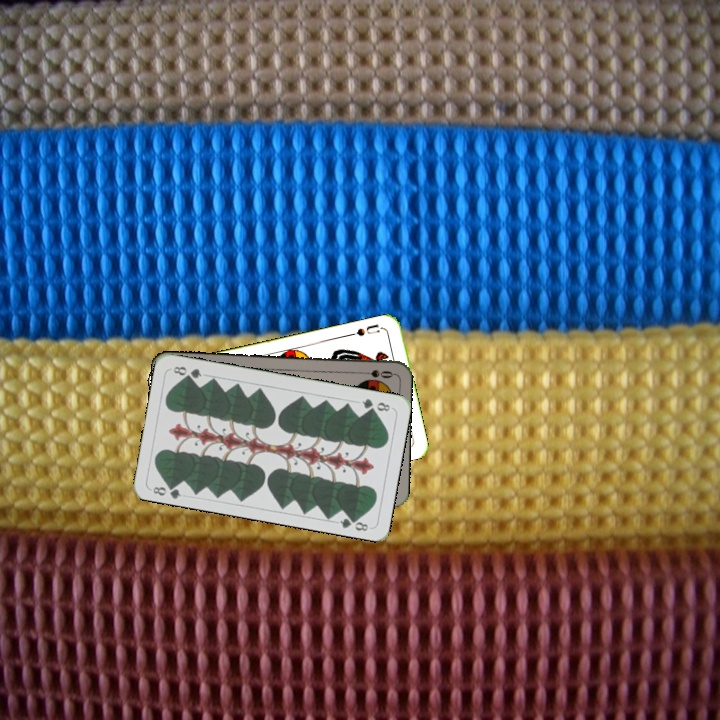G8: (149, 479, 184, 501), (358, 394, 393, 414)
SO: (355, 366, 396, 381)
SU: (346, 320, 382, 339)
